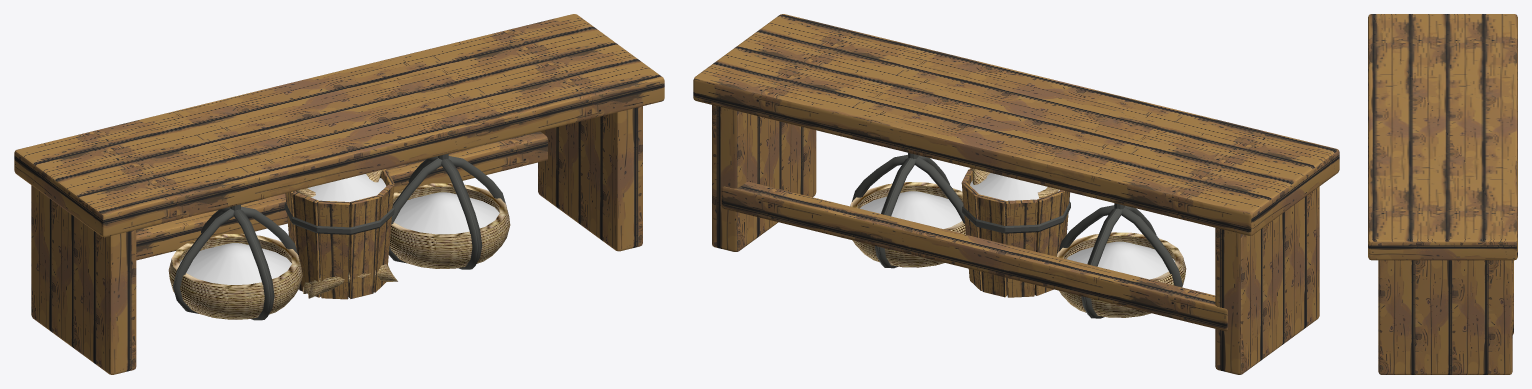
The picture shows the model from 3 angles, left to right: view 1: azimuth 30°, elevation 25°; view 2: azimuth 150°, elevation 25°; view 3: azimuth 270°, elevation 25°; orthographic projection. The views are drawn at different scales.
Parts seen in each view (by area): view 1: polySurface812, polySurface841, polySurface856, polySurface733, pCylinder13, polySurface649; view 2: polySurface812, polySurface841, polySurface856, polySurface733, pCylinder13; view 3: polySurface812.
Boxes of the visible parts, x1,y1,x2,y2 form: polySurface812: (14, 14, 664, 374); polySurface841: (168, 153, 510, 320); polySurface856: (173, 156, 503, 319); polySurface733: (285, 169, 394, 297); pCylinder13: (284, 174, 394, 299); polySurface649: (296, 169, 397, 298); polySurface812: (693, 14, 1339, 374); polySurface841: (850, 153, 1186, 318); polySurface856: (852, 155, 1181, 318); polySurface733: (961, 168, 1070, 295); pCylinder13: (962, 173, 1070, 297); polySurface812: (1368, 14, 1517, 374).
Bounding box in the file's own units: 210 × 60.75 × 58.21.
